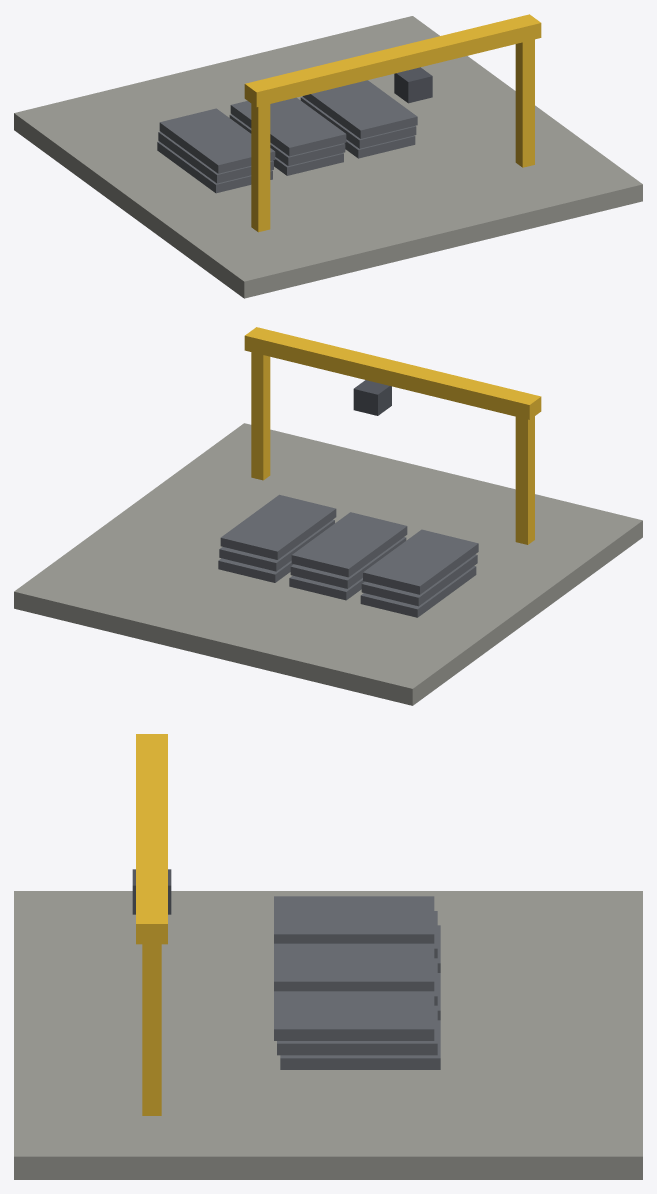
Rendered from metal_special_2.glb.
3 renders of one model, top to bottom at view 1: azimuth 30°, elevation 25°; view 2: azimuth 150°, elevation 25°; view 3: azimuth 270°, elevation 25°, orthographic. The views are drawn at different scales.
Visible parts, largest first — view 1: metal_special_2; view 2: metal_special_2; view 3: metal_special_2.
Boxes of the visible parts, x1=… form: metal_special_2: x1=14, y1=14, x2=642, y2=298; metal_special_2: x1=14, y1=327, x2=642, y2=705; metal_special_2: x1=14, y1=734, x2=642, y2=1179.
Bounding box in the file's own units: 1.96 × 0.75 × 1.96.
